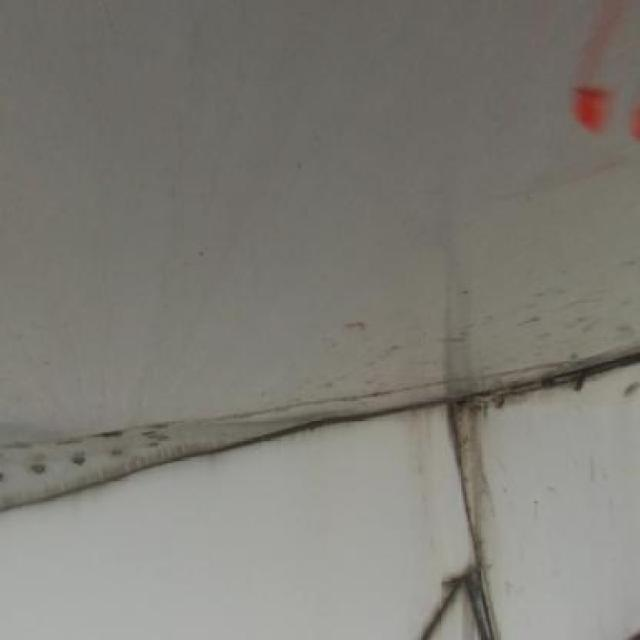Missing-Rivet: (19, 385, 226, 489)
Rust: (381, 312, 545, 640), (83, 395, 342, 473)
